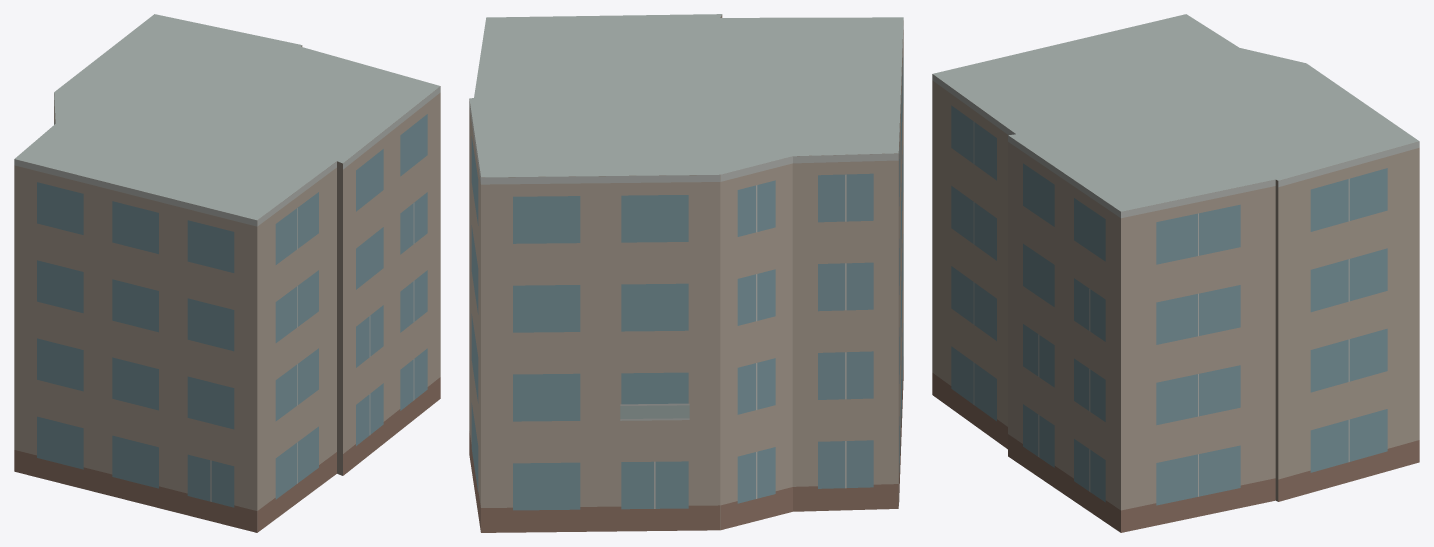
File: survey-upis-32988754.glb
3 renders of one model, left to right at view 1: azimuth 30°, elevation 25°; view 2: azimuth 150°, elevation 25°; view 3: azimuth 270°, elevation 25°, orthographic. The views are drawn at different scales.
Parts seen in each view (by area): view 1: survey-upis-32988754.tmp; view 2: survey-upis-32988754.tmp; view 3: survey-upis-32988754.tmp.
Boxes of the visible parts, x1,y1,x2,y2 form: survey-upis-32988754.tmp: [14, 14, 440, 532]; survey-upis-32988754.tmp: [469, 14, 903, 532]; survey-upis-32988754.tmp: [932, 14, 1419, 532].
Size of the model in its own units: 15.99 by 12.1 by 16.65.
